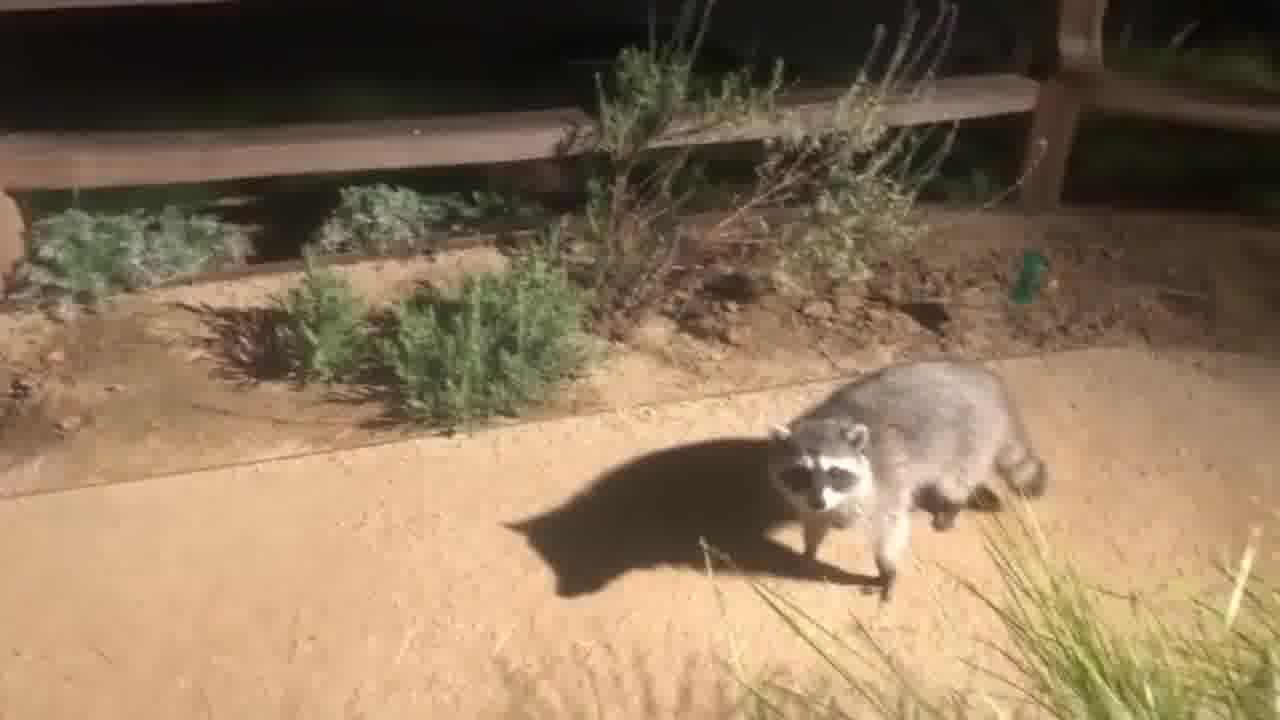raccoon: (752, 343, 1060, 613)
